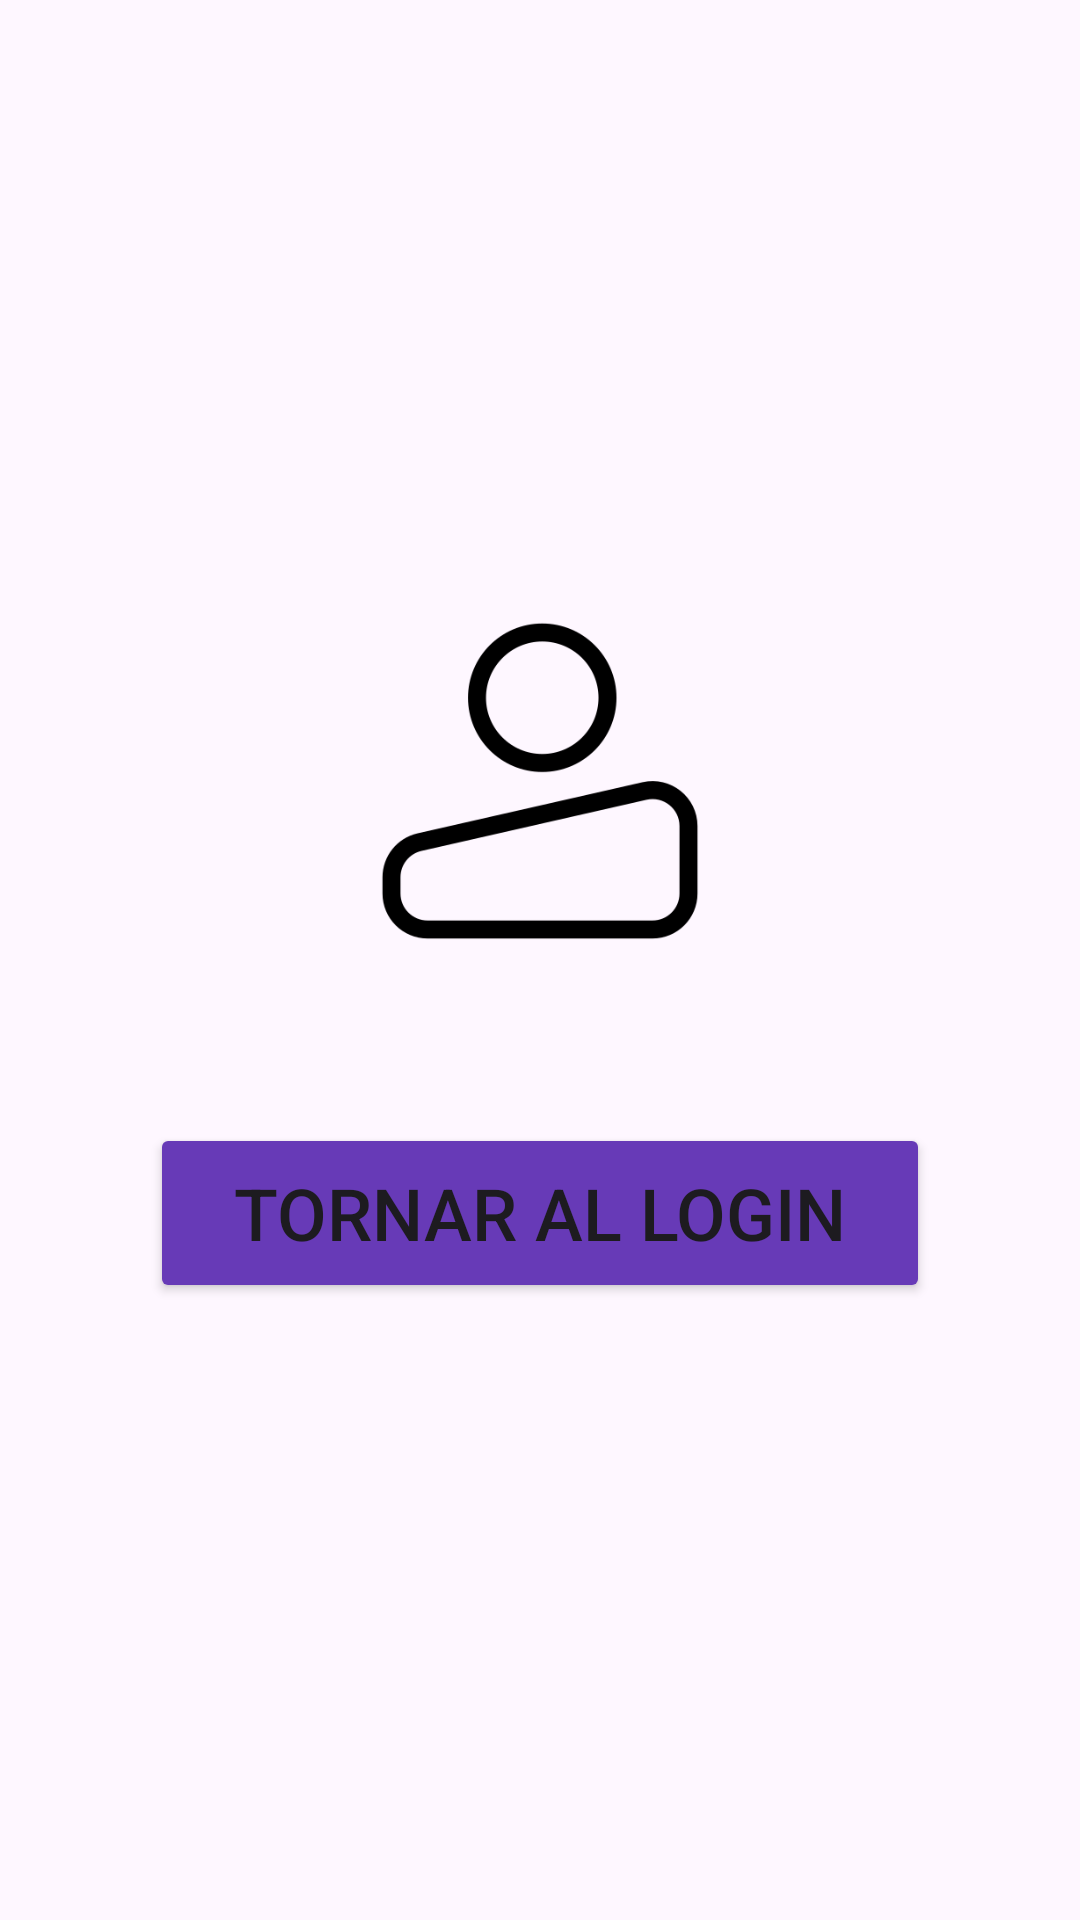

Locate icon controls on the screen. Image size 1080w x 1920h, boxes as (x1, y1, x2, y2).
user: (382, 623, 698, 939)
